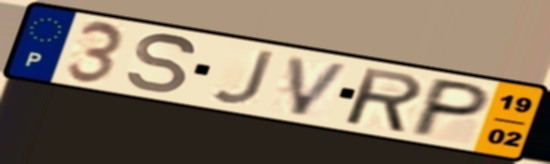3: (63, 19, 128, 86)
J: (209, 49, 280, 107)
P: (404, 75, 496, 140)
R: (344, 65, 425, 136)
S: (124, 31, 200, 96)
V: (285, 53, 355, 119)
